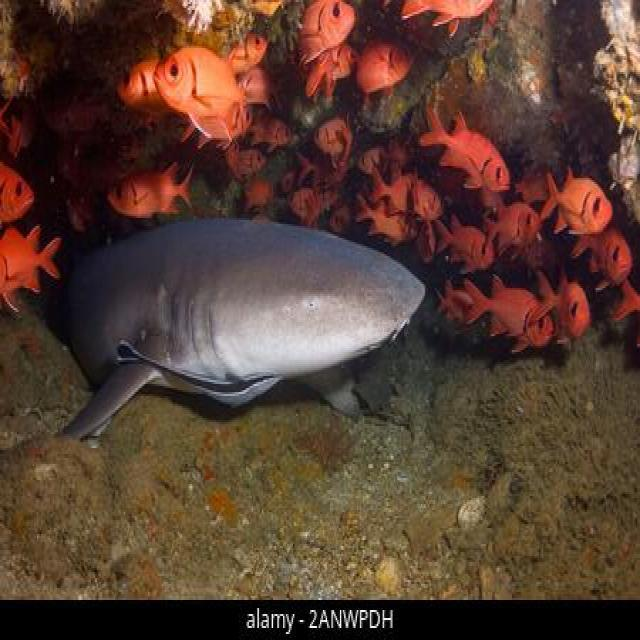Shark: (41, 138, 434, 464)
